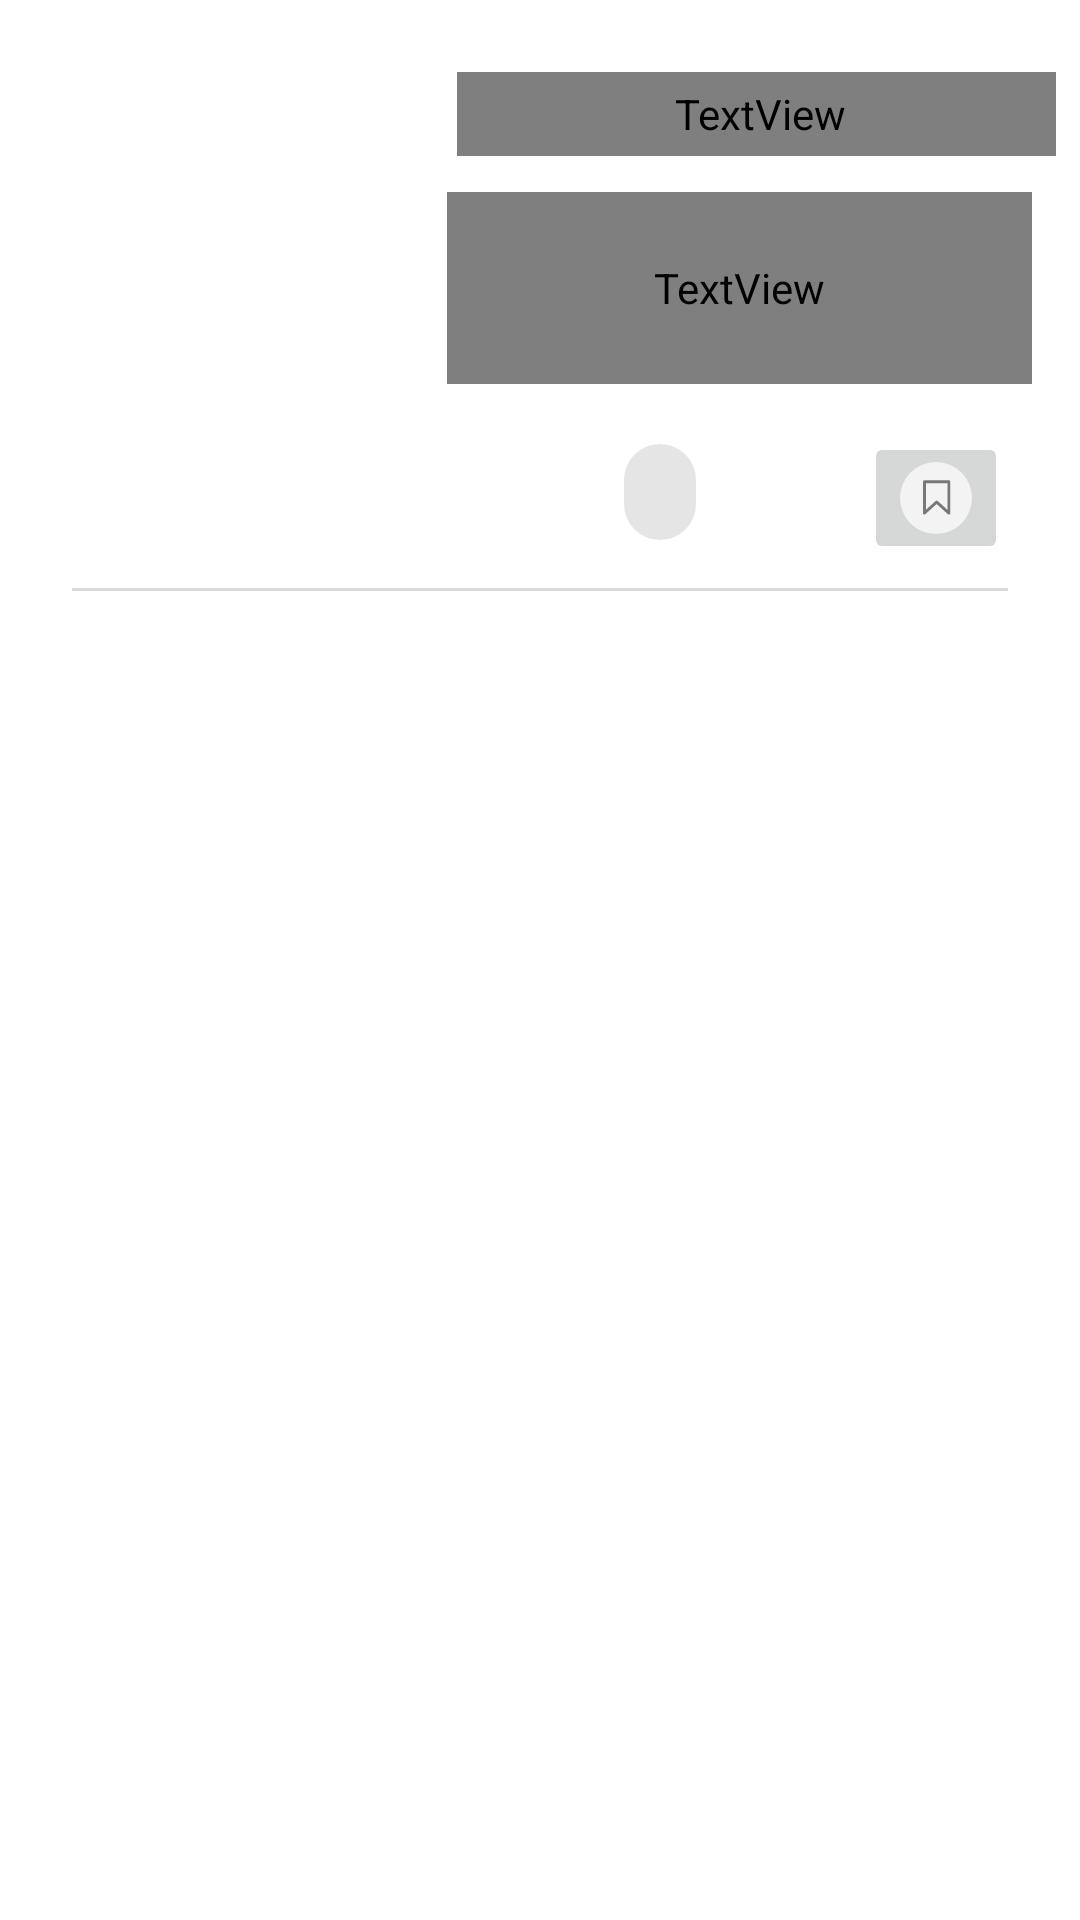

Icon click points for this 1080×1920 phone screenshot, format [x,y]:
bookmark popular: [936,498]
